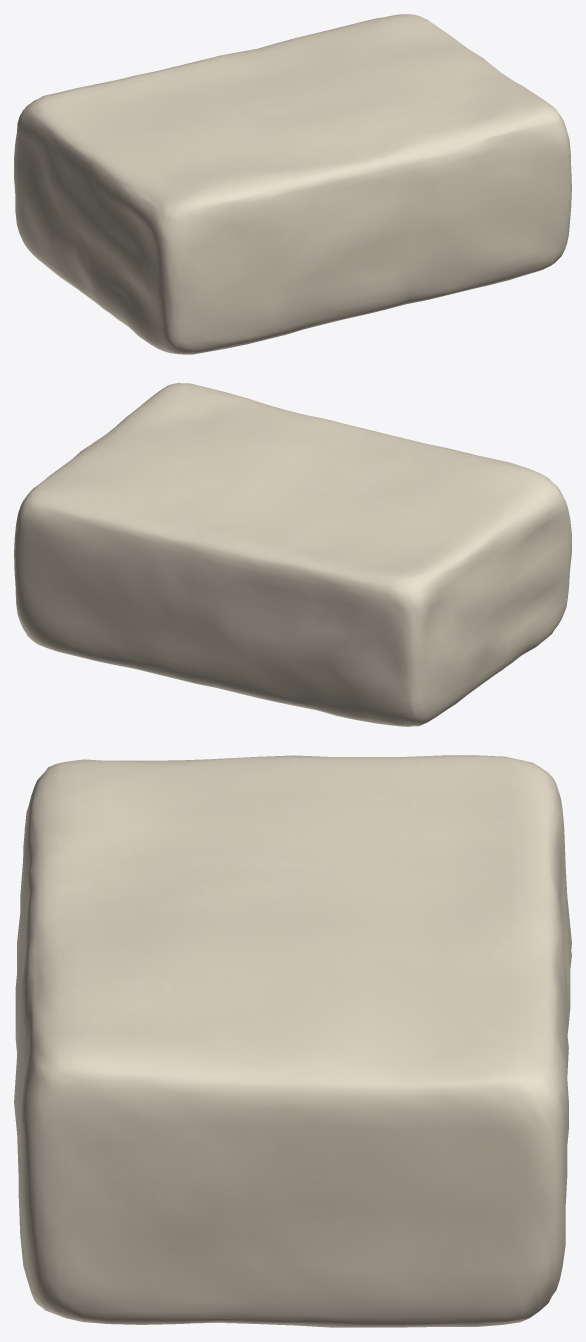
Rendered from optimized_glb.glb.
3 views of the same model, one above another, from view 1: azimuth 30°, elevation 25°; view 2: azimuth 150°, elevation 25°; view 3: azimuth 270°, elevation 25° (orthographic). The views are drawn at different scales.
Parts seen in each view (by area): view 1: Firm Tofu; view 2: Firm Tofu; view 3: Firm Tofu.
Boxes of the visible parts, x1=… form: Firm Tofu: x1=14, y1=14, x2=571, y2=354; Firm Tofu: x1=14, y1=383, x2=571, y2=726; Firm Tofu: x1=14, y1=755, x2=571, y2=1327.
Bounding box in the file's own units: 0.998 × 0.3887 × 0.7012.
Materials: 1 (1 with a texture image).
